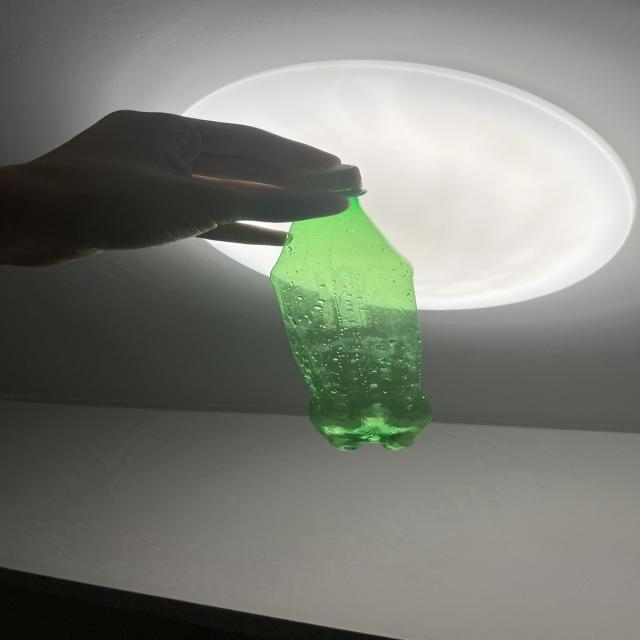empty: (270, 165, 431, 450)
